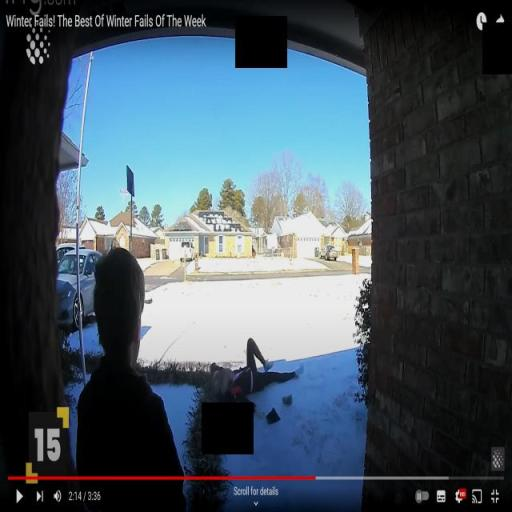Fall: (218, 336, 305, 425)
